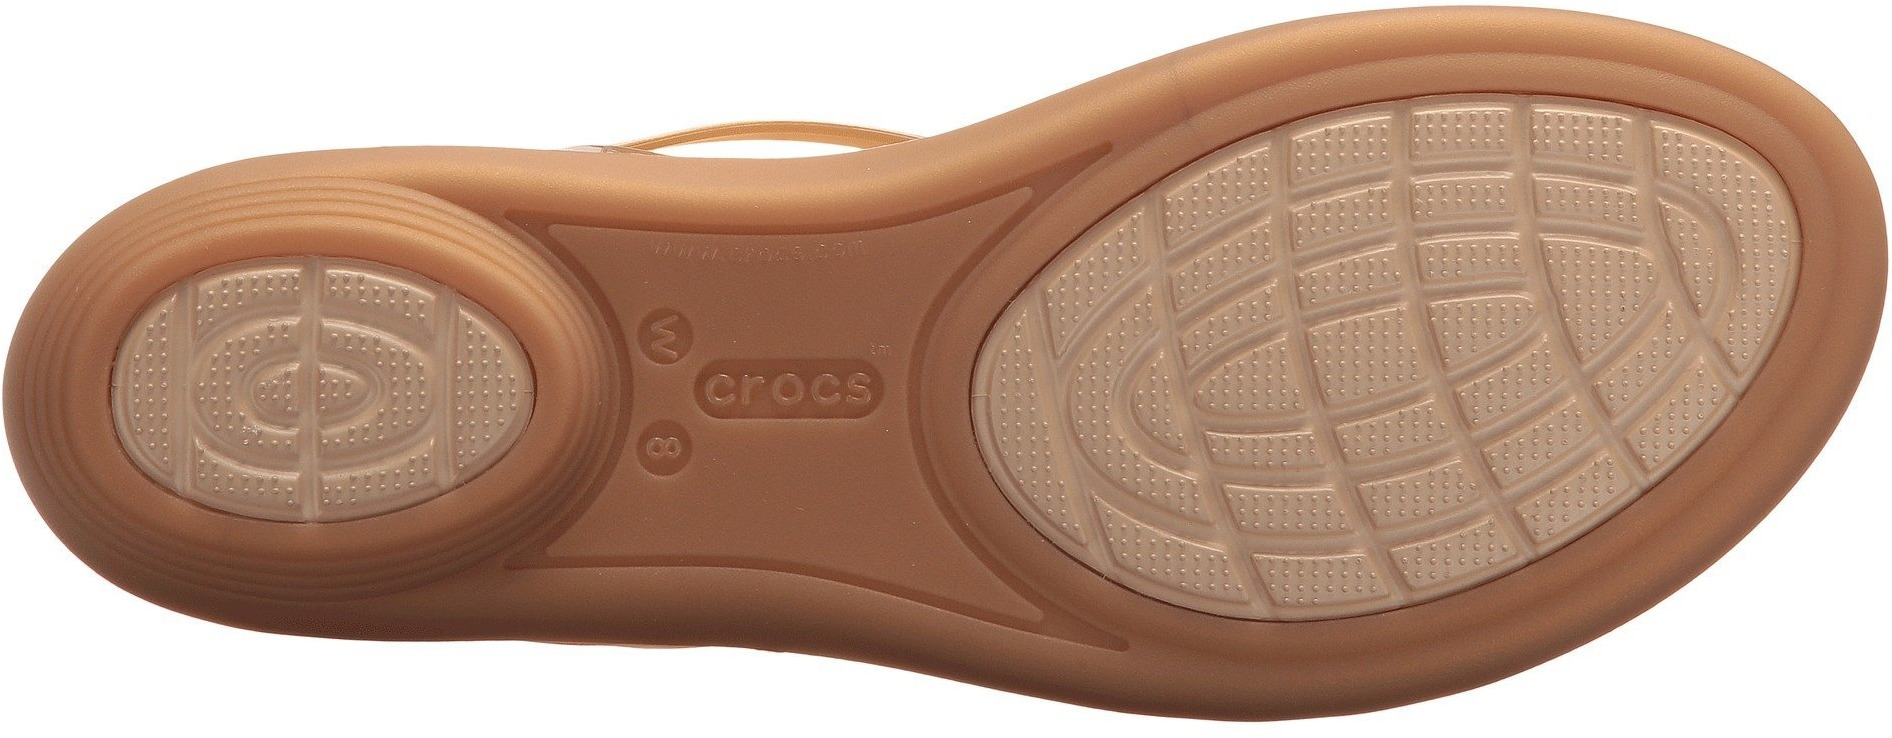circle: (186, 279, 432, 503), (681, 295, 894, 478), (620, 295, 713, 377), (625, 412, 703, 485)
exclude: (224, 2, 1335, 184)
line: (1382, 104, 1719, 471), (1078, 209, 1357, 517), (186, 279, 432, 503)
other: (827, 471, 930, 568)
quad: (1228, 131, 1642, 506), (1382, 104, 1719, 471), (1078, 209, 1357, 517), (681, 295, 894, 478), (1566, 162, 1764, 342), (708, 476, 860, 619)
text: (681, 295, 894, 478), (620, 295, 713, 377), (693, 353, 773, 424), (625, 412, 703, 485), (802, 357, 881, 426), (635, 311, 690, 363), (641, 428, 687, 468)
triangle: (1382, 104, 1719, 471), (1078, 209, 1357, 517)
